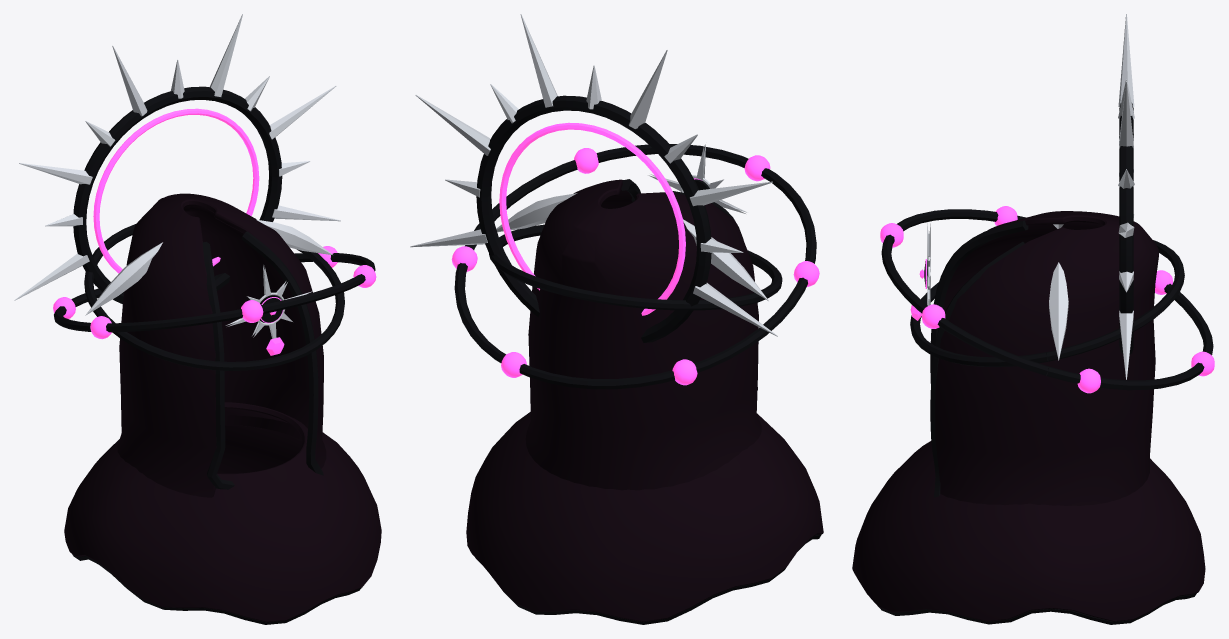
File: esc_hollow_eclipse_helm.glb
The picture shows the model from 3 angles, left to right: view 1: azimuth 30°, elevation 25°; view 2: azimuth 150°, elevation 25°; view 3: azimuth 270°, elevation 25°; orthographic projection. The views are drawn at different scales.
Visible parts, largest first — view 1: esc_hollow_eclipse_helm; view 2: esc_hollow_eclipse_helm; view 3: esc_hollow_eclipse_helm.
Part boxes in pixels (<box>): esc_hollow_eclipse_helm: <box>14,14,381,624</box>; esc_hollow_eclipse_helm: <box>410,14,823,624</box>; esc_hollow_eclipse_helm: <box>852,14,1214,624</box>.
Size of the model in its own units: 0.7147 by 1.04 by 0.6427.
